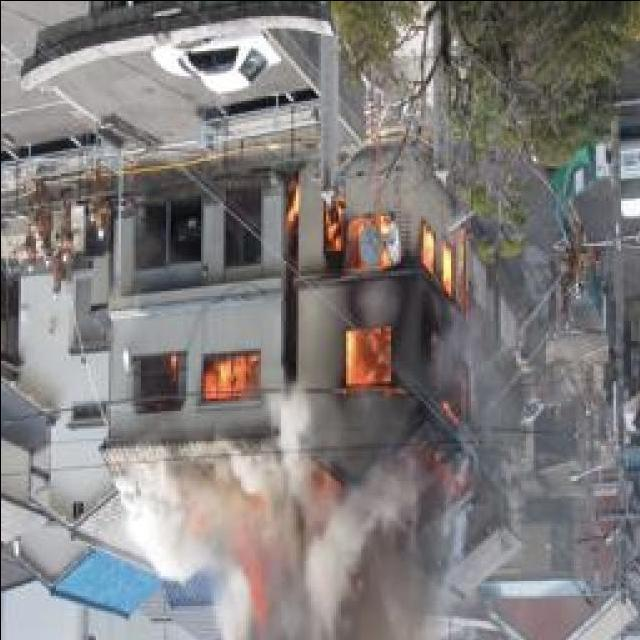Fire: (305, 167, 474, 406), (193, 482, 278, 576), (177, 344, 255, 410)
